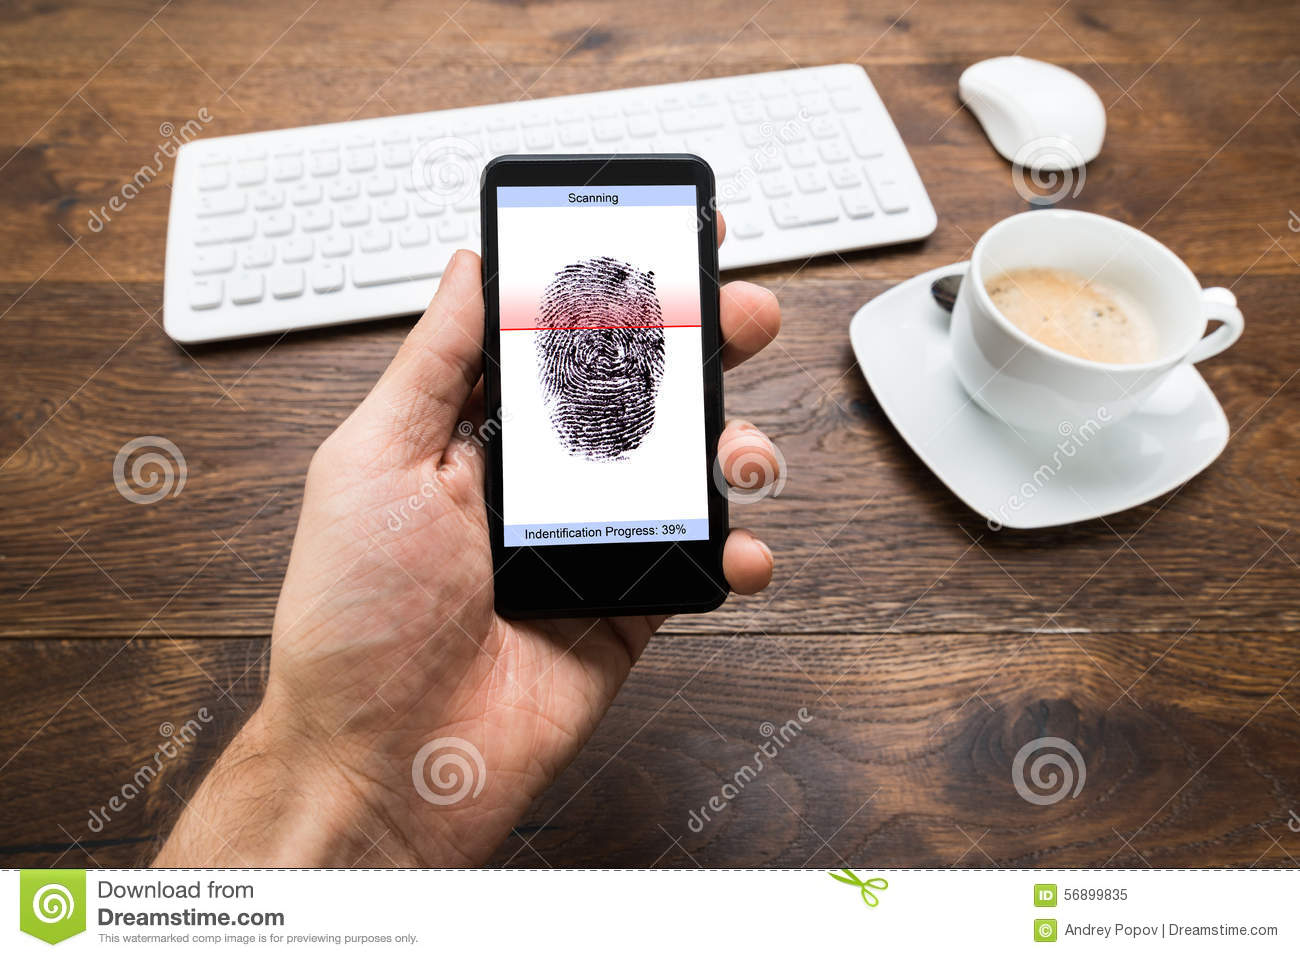smartphone: (480, 155, 726, 620)
